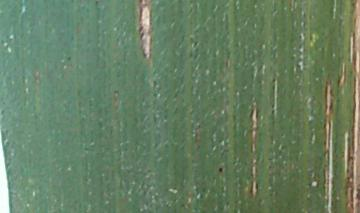tarspot: (63, 52, 76, 64), (215, 163, 227, 175)
